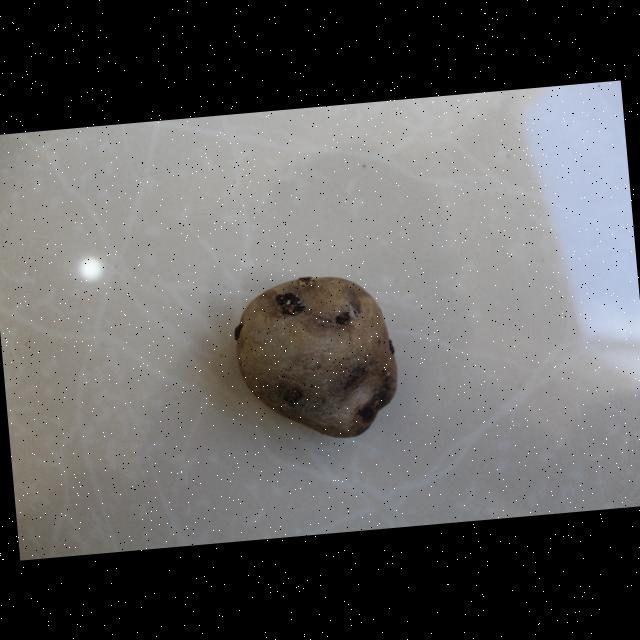Diseased-fungal potato: (232, 190, 415, 376)
